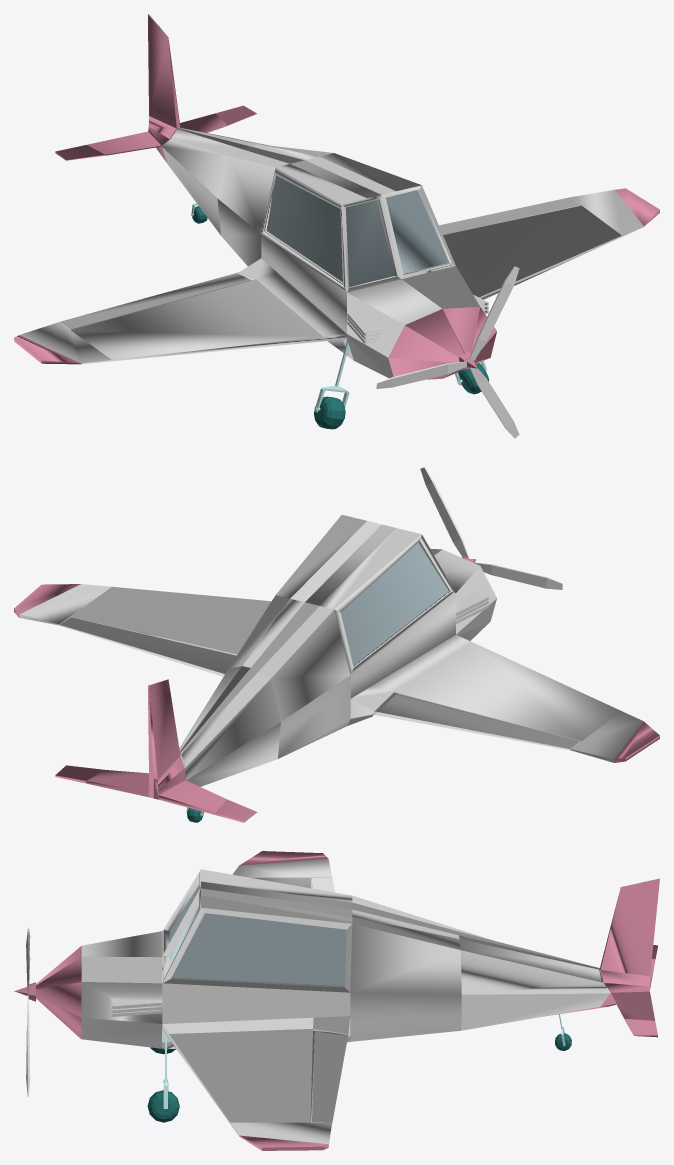
File: NewPlane.glb
3 renders of one model, top to bottom at view 1: azimuth 30°, elevation 25°; view 2: azimuth 150°, elevation 25°; view 3: azimuth 270°, elevation 25°, orthographic.
Parts seen in each view (by area): view 1: Cube_3, Cube_1, Cube_0, Cube_2, Wheel_4; view 2: Cube_3, Cube_1, Cube_0; view 3: Cube_3, Wheel_2.
Part boxes in pixels (<box>): Cube_3: <box>14,14,659,379</box>; Cube_1: <box>469,266,519,360</box>; Cube_0: <box>376,361,466,388</box>; Cube_2: <box>470,367,519,438</box>; Wheel_4: <box>314,396,345,429</box>; Cube_3: <box>14,515,659,822</box>; Cube_1: <box>420,467,469,558</box>; Cube_0: <box>474,562,562,589</box>; Cube_3: <box>36,851,659,1150</box>; Wheel_2: <box>147,1090,179,1122</box>.
Size of the model in its own units: 4.29 by 1.4 by 3.94.
